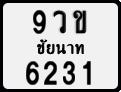letters: (30, 9, 47, 35), (42, 59, 58, 86), (25, 59, 40, 86), (72, 9, 88, 34), (52, 10, 68, 34), (62, 59, 76, 86), (81, 59, 93, 86)
province: (36, 38, 85, 56)
